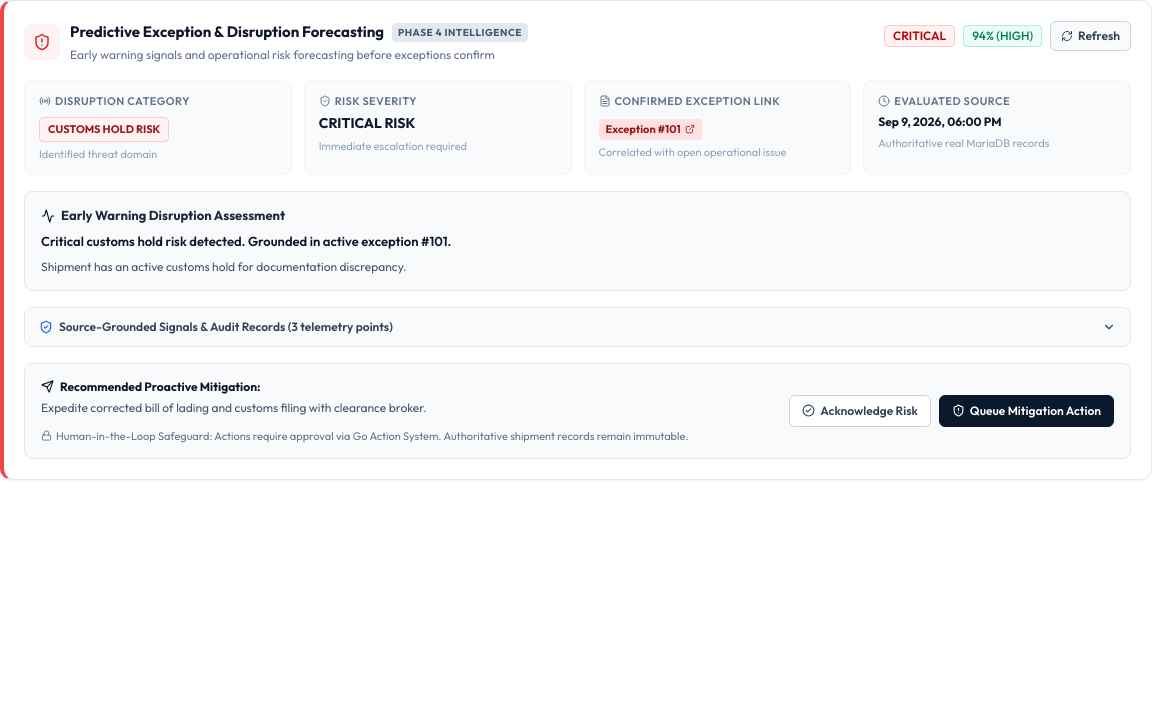
Test: ShipmentDisruptionForecastCard › handles acknowledge risk button action
Click the button "Acknowledge Risk" at (860, 411), box x1=789 y1=395 x2=931 y2=427
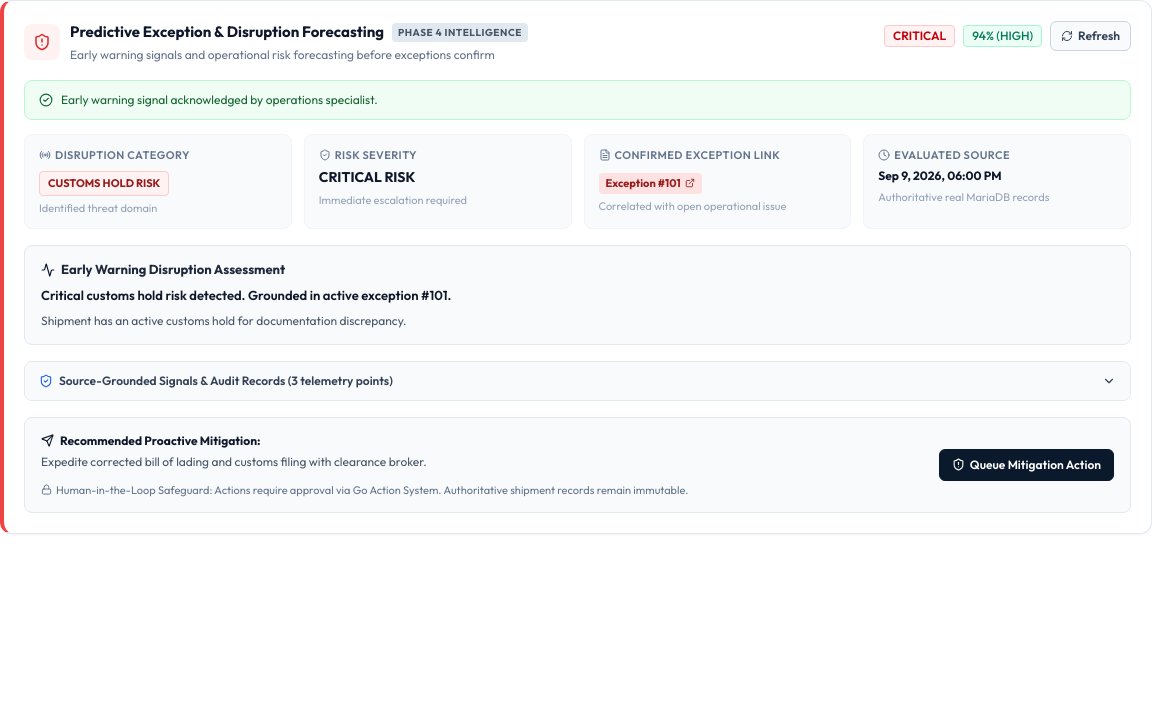
Now the text "Early warning signal acknowledged by operations specialist." is shown, box x1=61 y1=90 x2=378 y2=108
